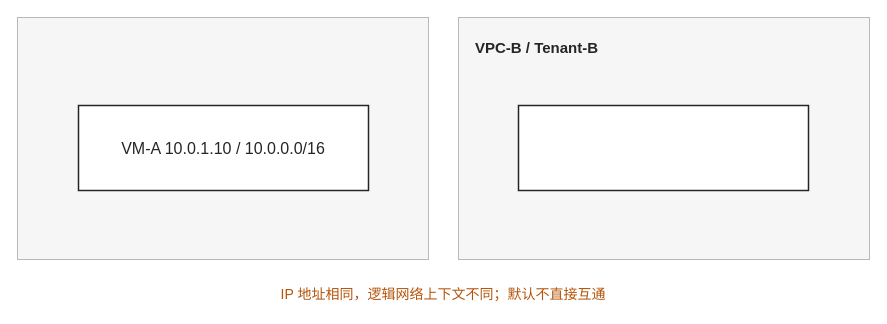
Some shapes in this 887 by 324 pixel diagram are drawn without their labels. Each missing label, with the box of its shape:
VM-B 10.0.1.10 / 10.0.0.0/16: (517, 104, 809, 191)
VPC-A / Tenant-A: (16, 16, 428, 260)
